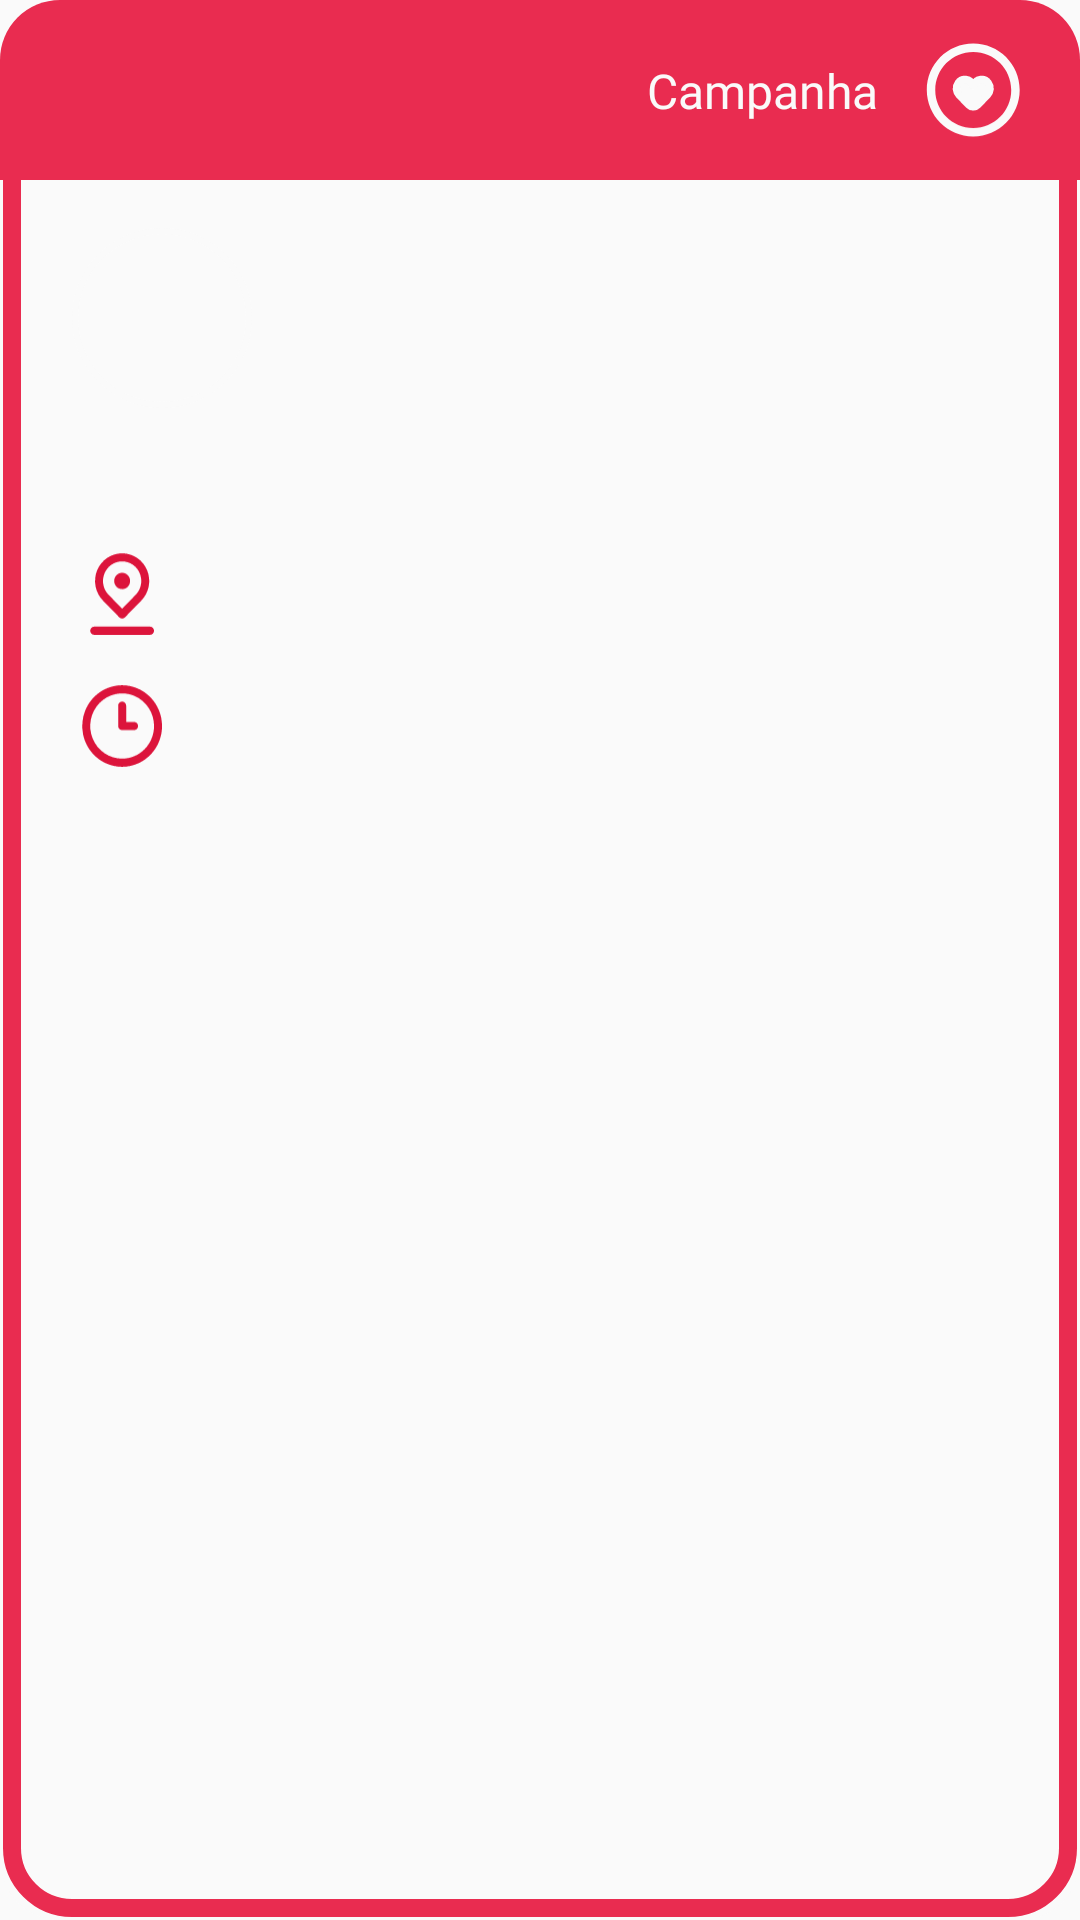

Locate icon controls on the screen. Image size 1080w x 1920h, boxes as (x1, y1, x2, y2).
iclock: (82, 685, 162, 767)
iheartcampain: (926, 43, 1020, 137)
ilocal: (90, 553, 154, 635)
